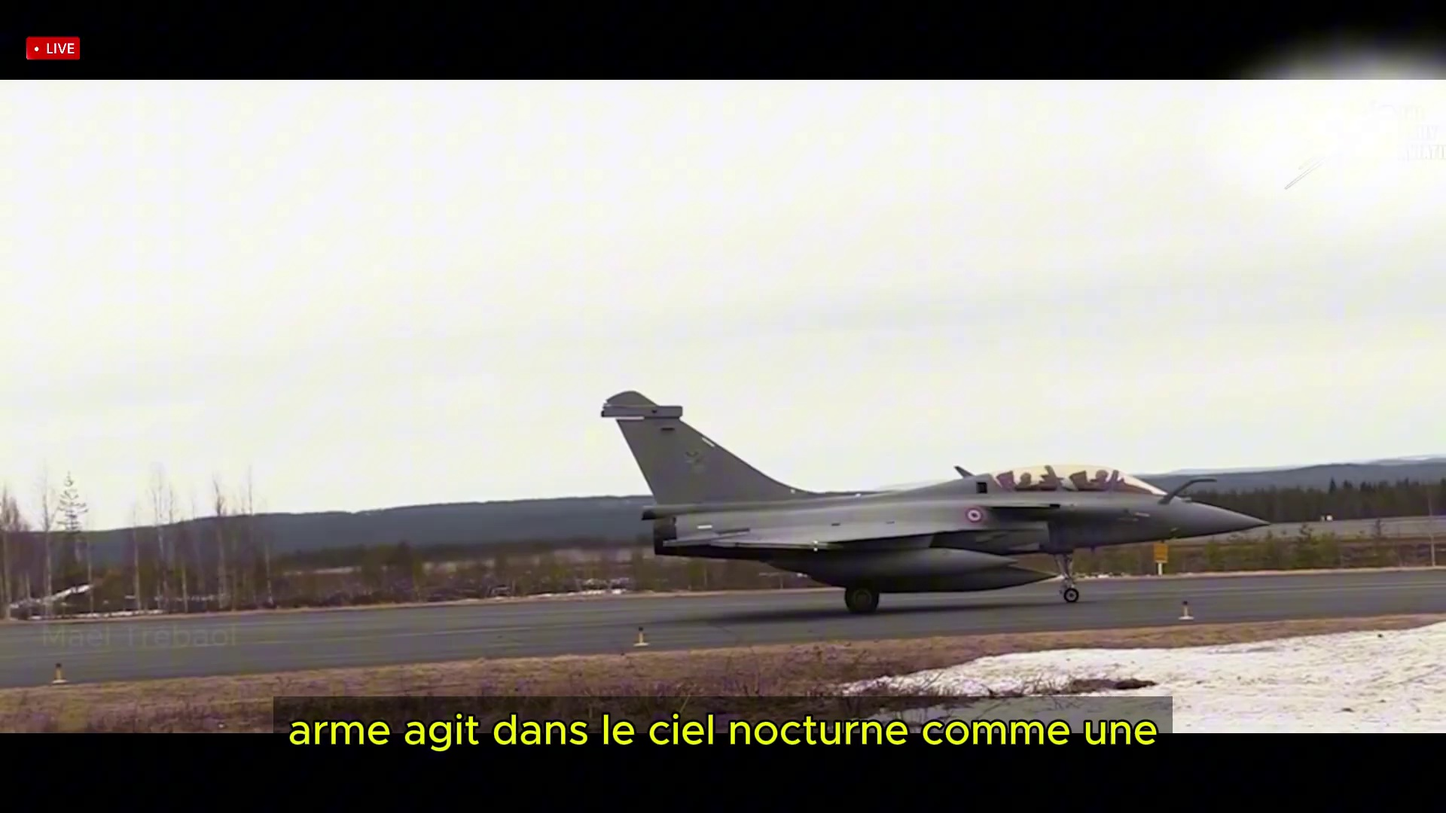Rafale: (611, 395, 1266, 615)
